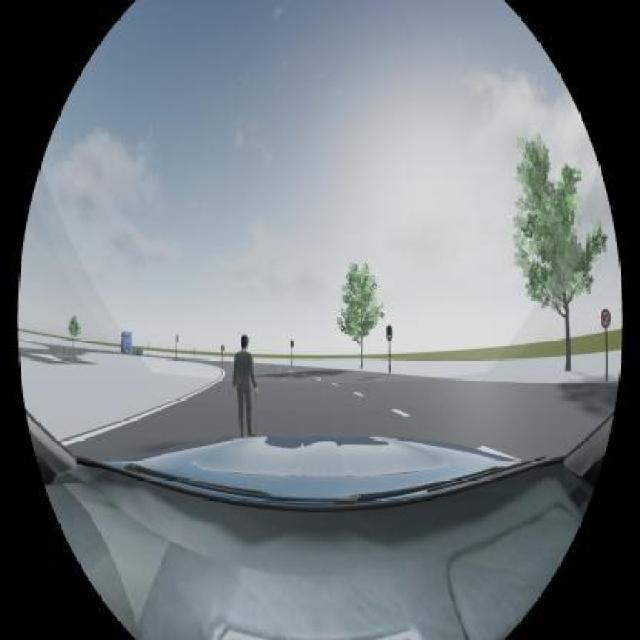forb_speed_over_70: (220, 346, 225, 352)
